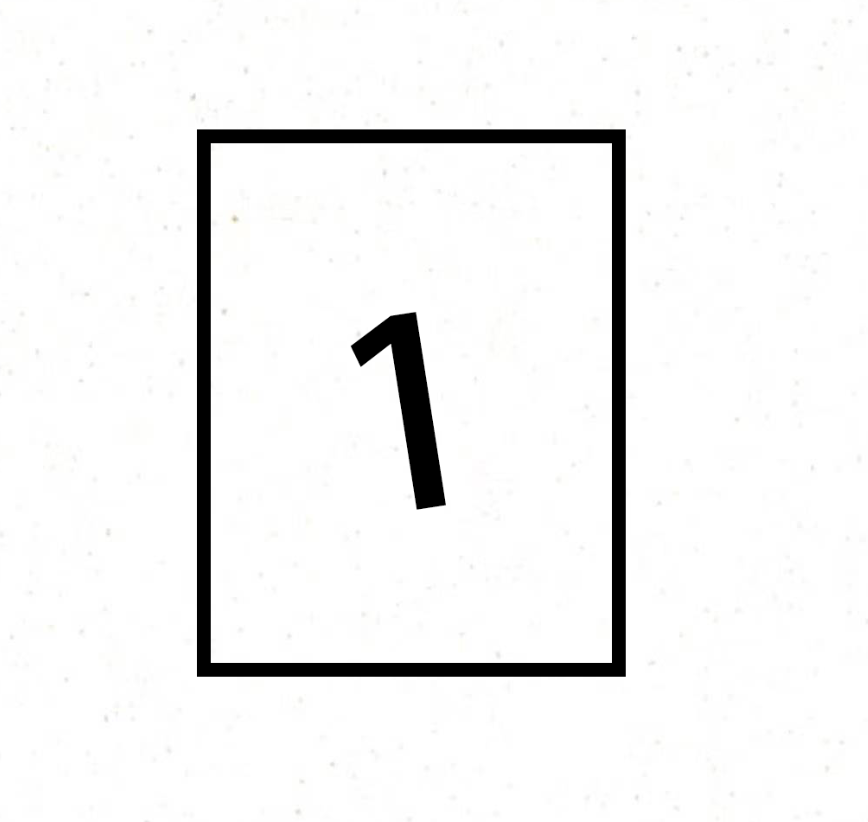one: (283, 237, 556, 569)
